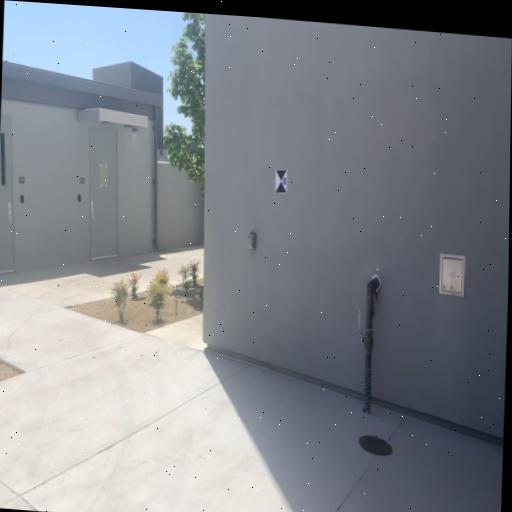target8: (274, 169, 287, 194)
